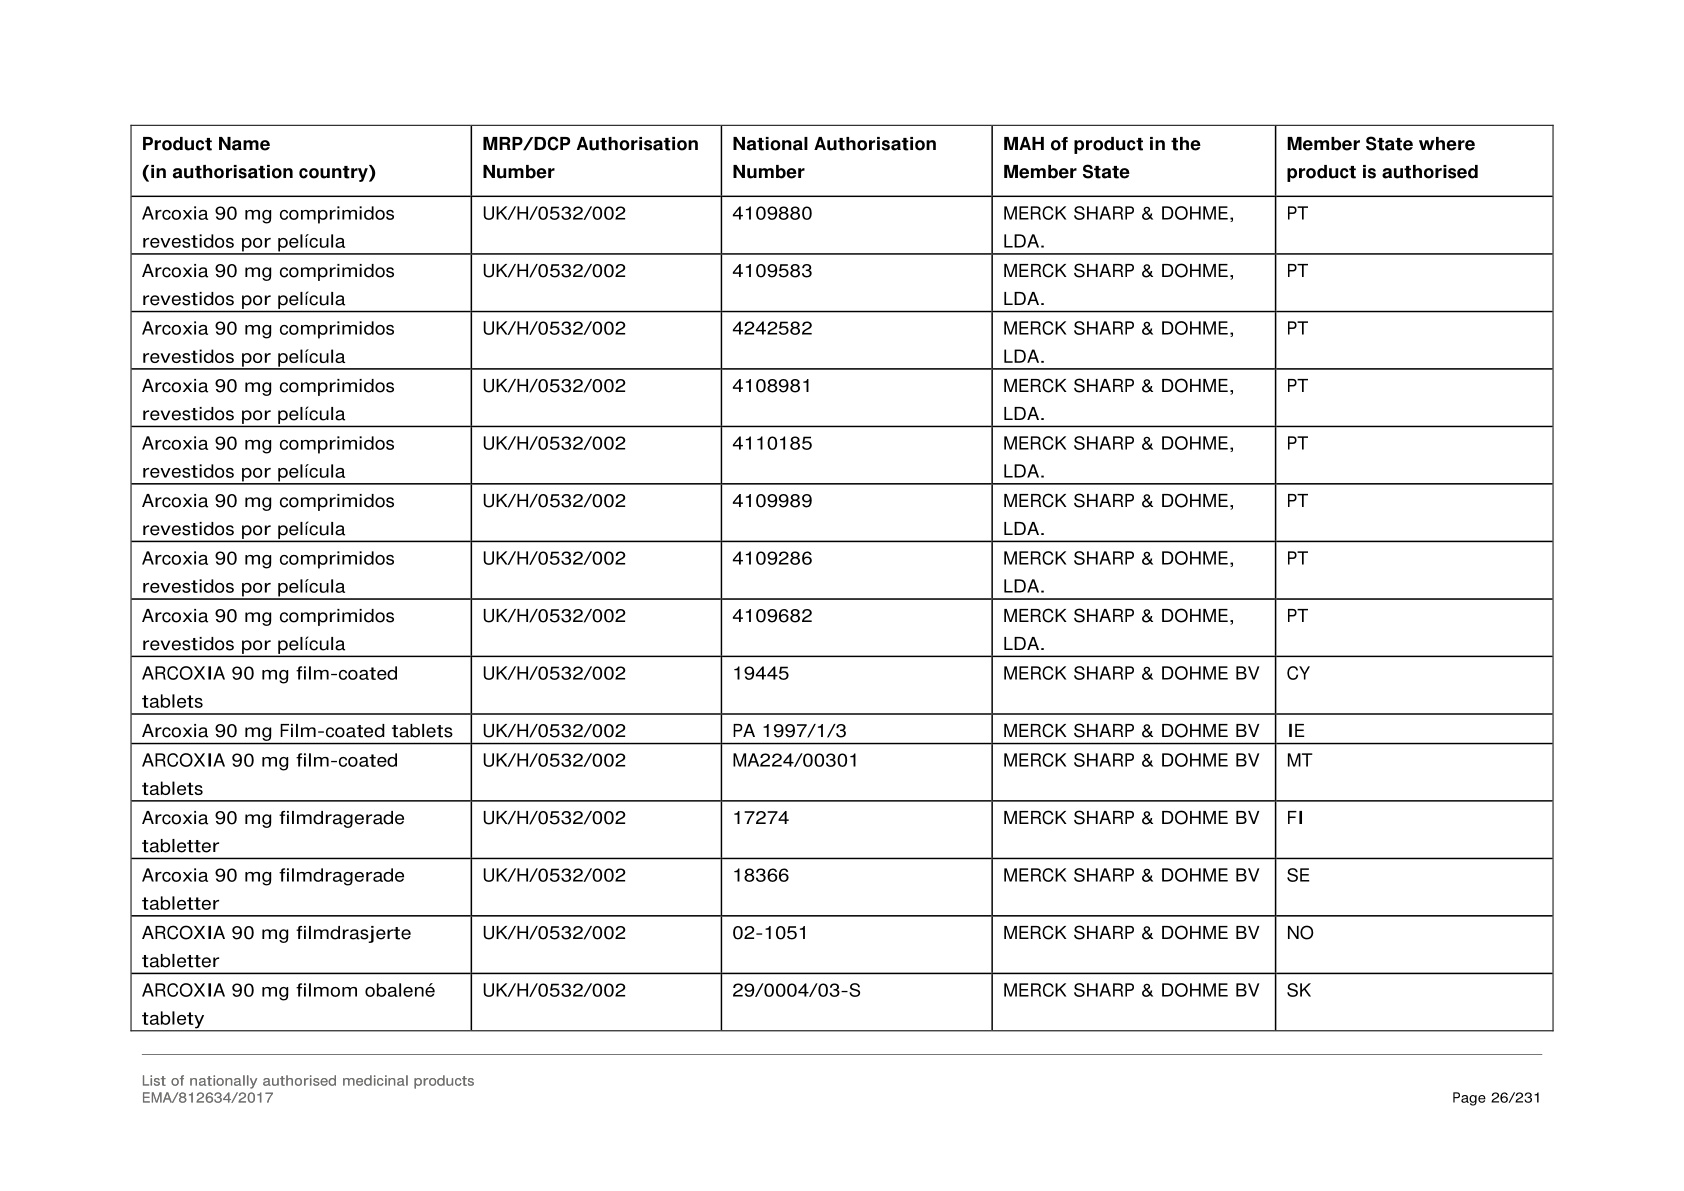full_lined: (124, 122, 1558, 1035)
